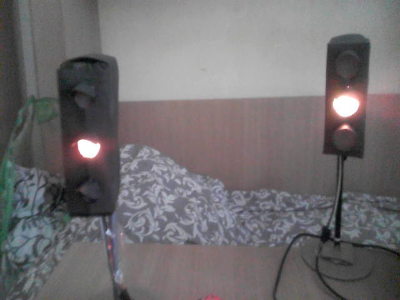trafficlight_red: (61, 58, 118, 211), (324, 41, 367, 155)
